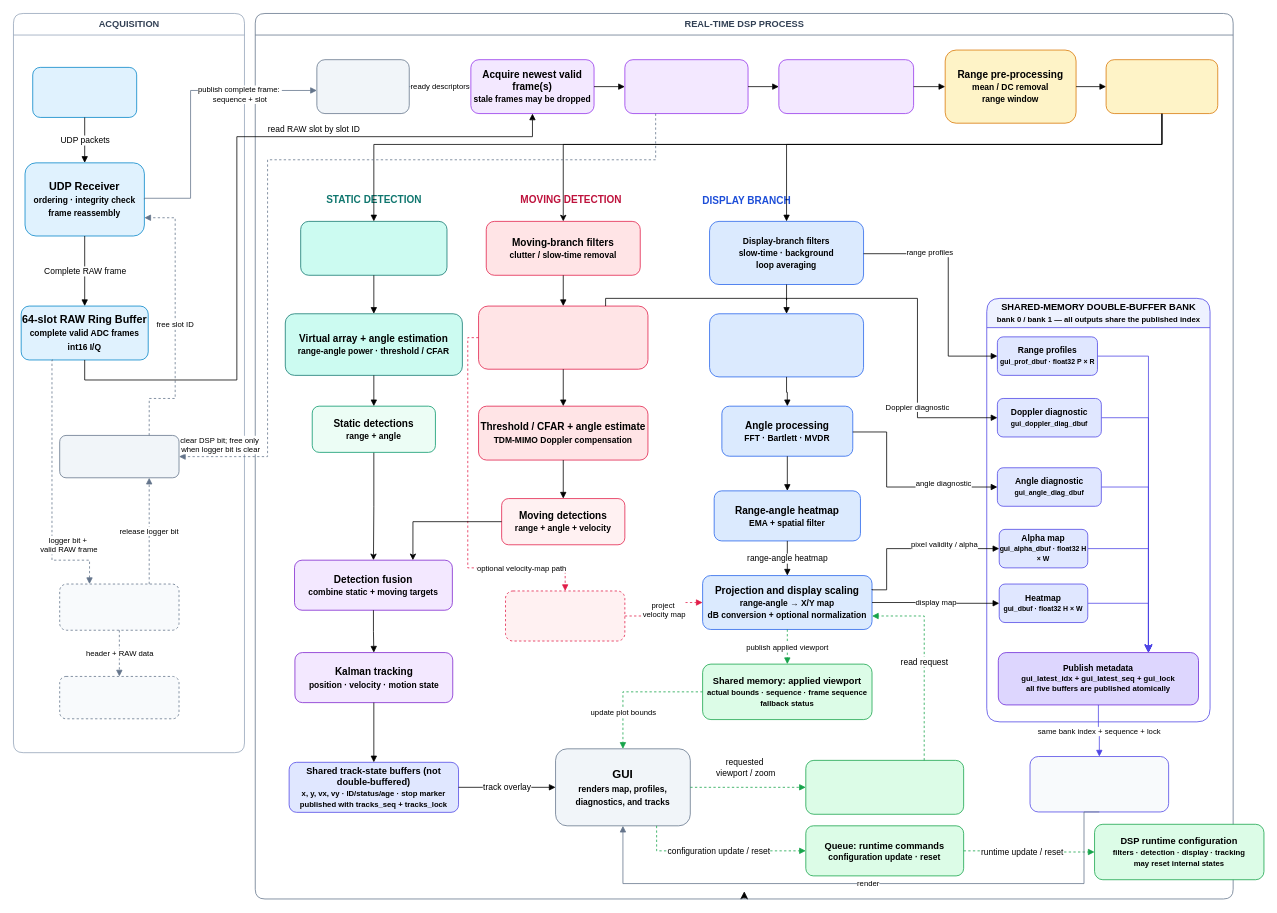
Some shapes in this 1277 by 913 pixel diagram are drawn without their labels. Each missing label, with the centre of its shape:
Capture .bin file header + valid RAW frames: the point at 119,697
Capture Logger (optional) only while a capture is active: the point at 119,606
Doppler processing Doppler window + Doppler FFT range-Doppler map: the point at 563,337
DSP-ready Queue (sequence, slot): the point at 362,86
Free-slots Queue available ring-slot IDs: the point at 119,456
GUI local copies consistent heatmap, alpha, profiles, and diagnostic arrays: the point at 1099,784
Optional moving display range-angle velocity map: the point at 565,615
Radar / DCA1000 UDP packets with ADC samples: the point at 84,92
Radar tensor [frame, loop, TX, sample, RX]: the point at 846,86
Range FFT range-FFT cube: the point at 1161,86
RAW → complex I/Q return slot to free pool: the point at 686,86
Shared memory: requested viewport xmin · xmax · ymin · ymax · sequence: the point at 884,787
Static-branch filters background / loop averaging: the point at 373,248
Virtual-array formation TX × RX channels optional angle window: the point at 786,345
